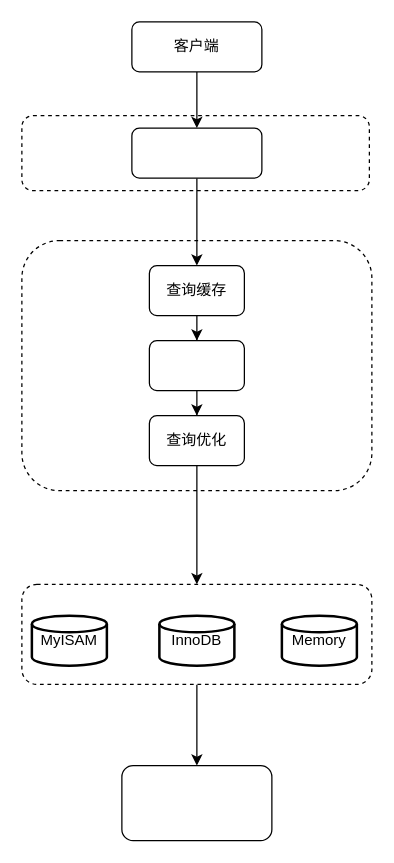
This 394x863 diagram has some shape labels left out. Each missing label, with the centre of its shape:
"处理连接" belongs at (196,152).
"文件系统" belongs at (196,802).
"语法解析" belongs at (196,365).
